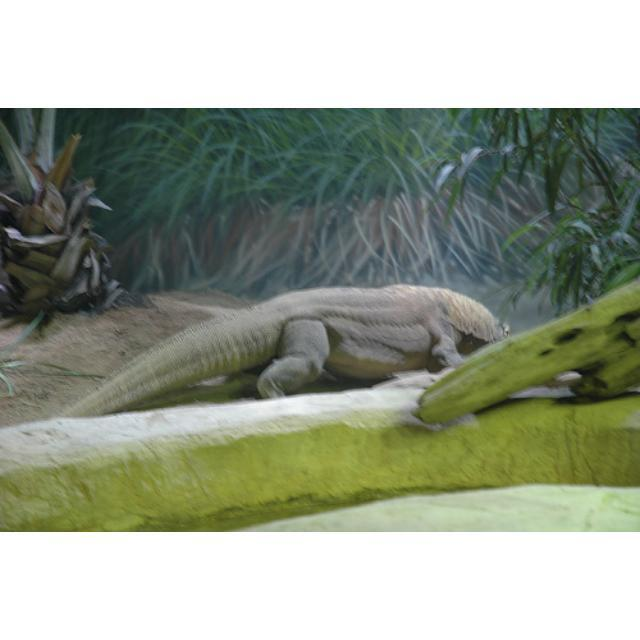KomodoDragon: (62, 283, 511, 419)
